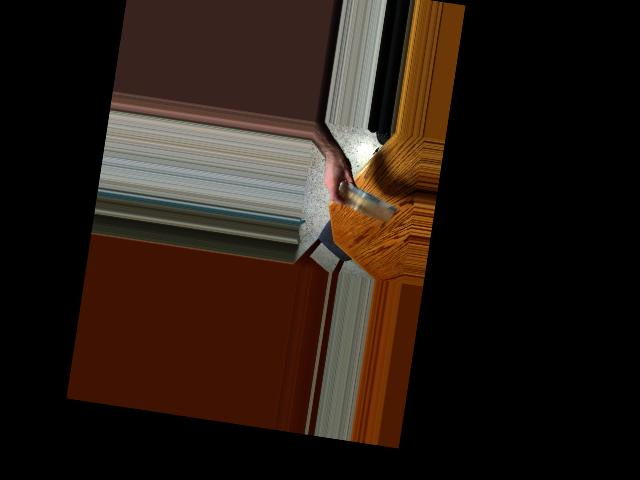cheese: (329, 185, 400, 220)
